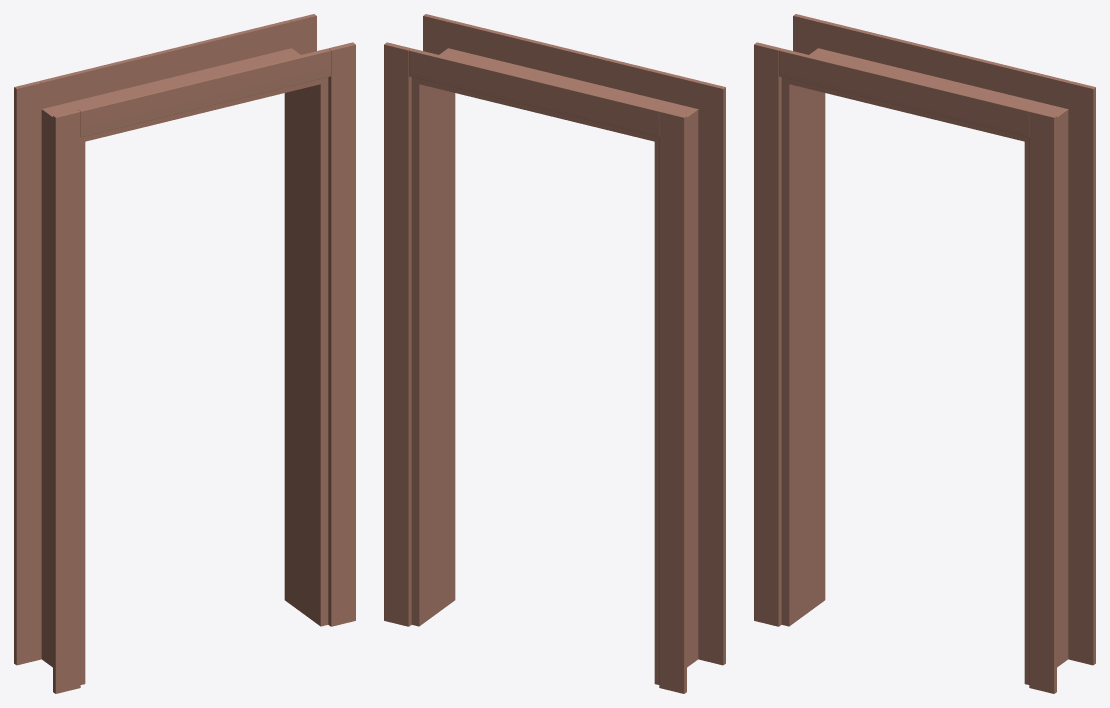
File: door-frame.glb
The picture shows the model from 3 angles, left to right: view 1: azimuth 30°, elevation 25°; view 2: azimuth 150°, elevation 25°; view 3: azimuth 330°, elevation 25°; orthographic projection.
Visible parts, largest first — view 1: door-frame; view 2: door-frame; view 3: door-frame.
Boxes of the visible parts, x1,y1,x2,y2 form: door-frame: (14, 14, 355, 693); door-frame: (384, 14, 725, 693); door-frame: (754, 14, 1095, 693).
Bounding box in the file's own units: 1.2 × 2.2 × 0.29.
